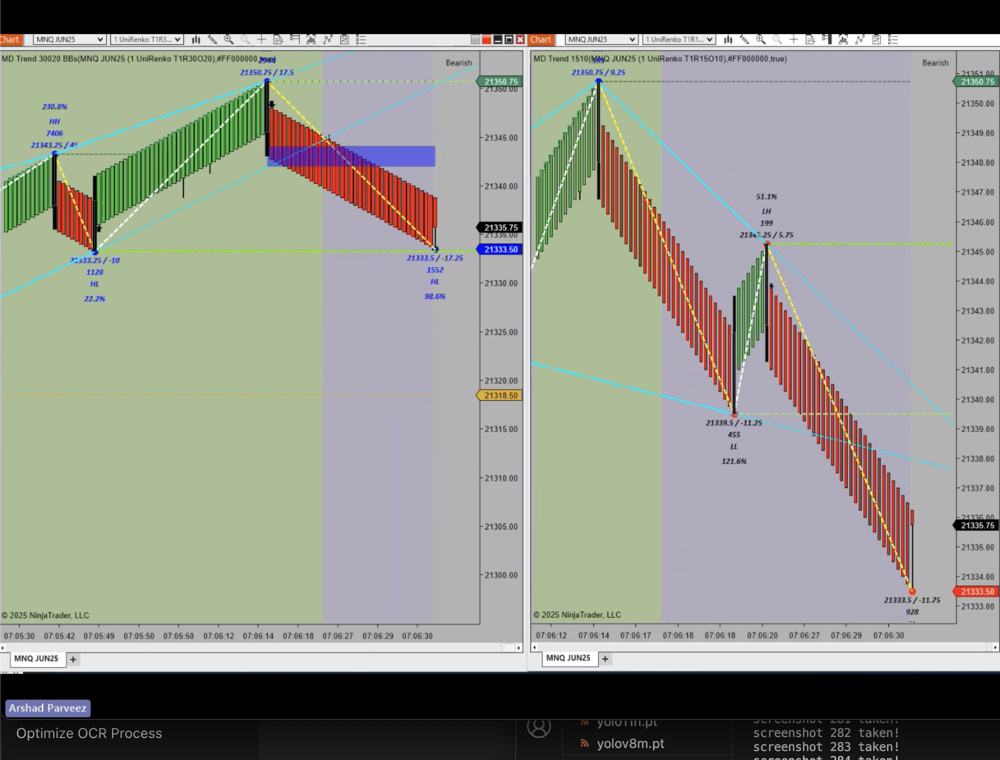HH: (41, 116, 74, 130)
HL: (80, 277, 111, 295), (426, 272, 446, 290)
LH: (757, 199, 781, 219)
LL: (728, 435, 747, 460)
